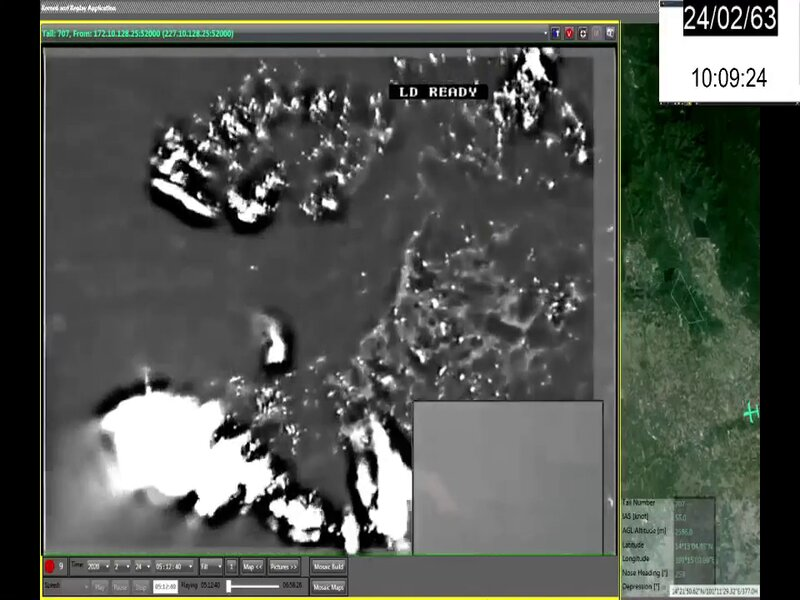Fire: (100, 367, 412, 553)
